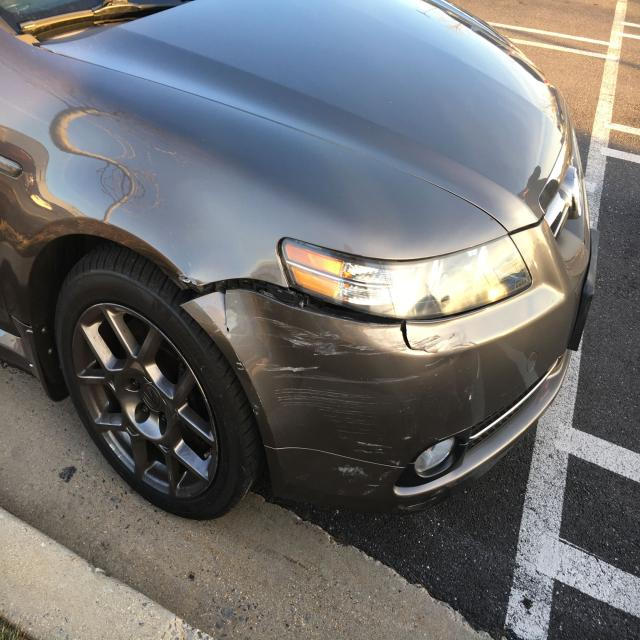crush: (176, 273, 201, 286)
dent: (247, 260, 288, 288), (195, 279, 205, 285)
misalignment: (179, 278, 406, 326)
scratch: (234, 300, 482, 498), (252, 391, 264, 418), (403, 434, 413, 440), (468, 393, 472, 402)
tear: (400, 323, 444, 355), (219, 291, 231, 334)
